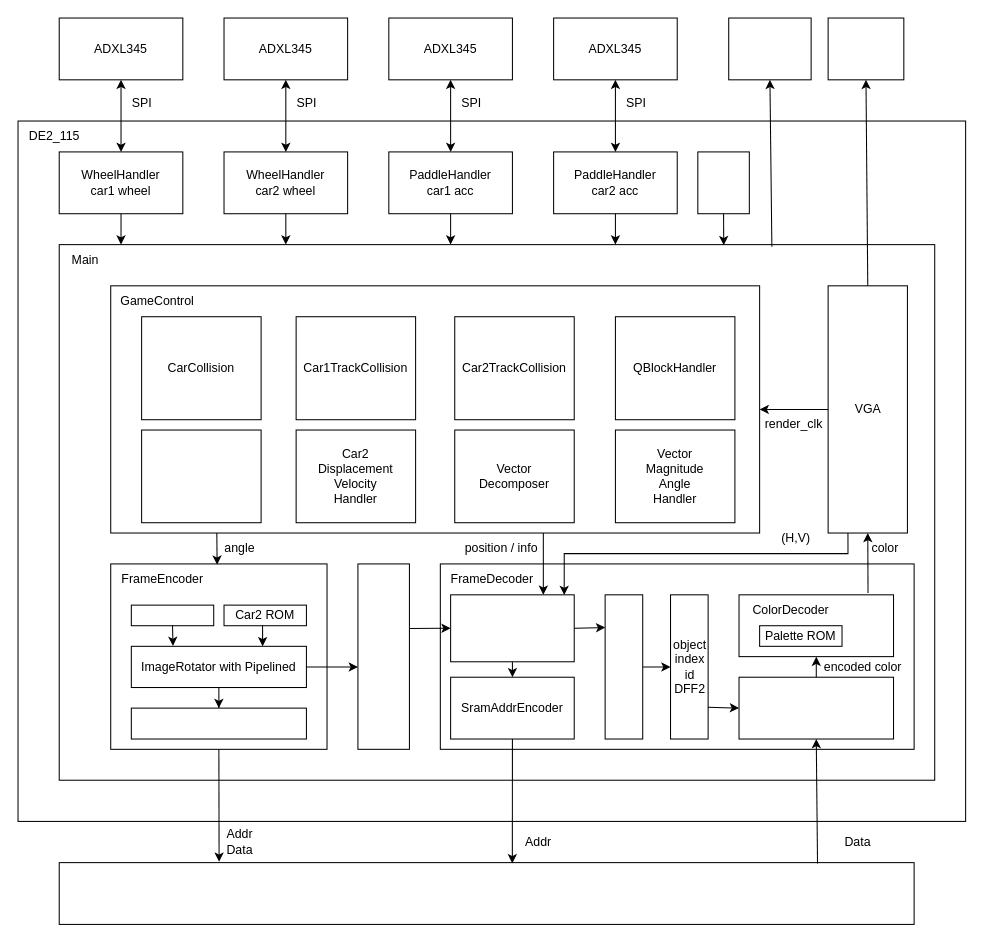
This 984x942 diagram has some shape labels left out. The shapes that lost their labels are listed below. From the top down, each one's centre as x and y in pixels, then its label:
At point (769, 48): "Vibrator".
At point (865, 48): "MONITOR".
At point (723, 182): "PLL".
At point (201, 476): "Car1 Displacement Velocity Handler".
At point (172, 615): "Car1 ROM".
At point (512, 628): "PixelDecoder".
At point (383, 656): "Opacity Mask DFF".
At point (623, 666): "object index id DFF1".
At point (218, 723): "SramEncoder".
At point (816, 707): "SramDataEncoder".
At point (486, 893): "SRAM".
